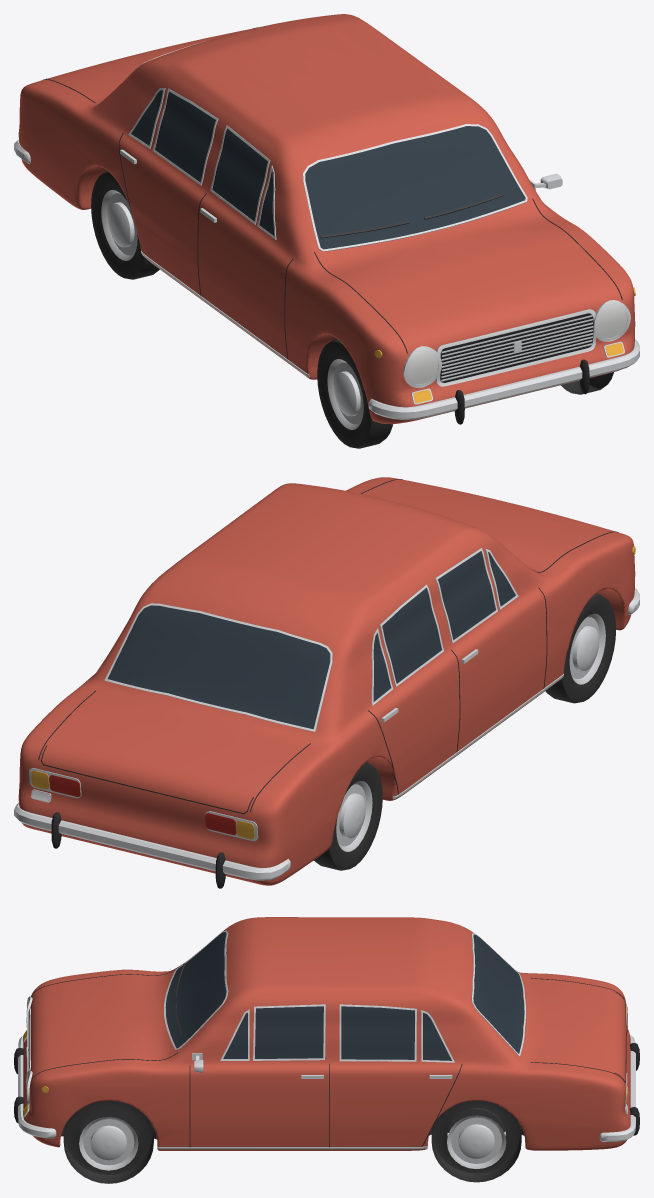
The model's file is vaz2101.glb.
3 renders of one model, top to bottom at view 1: azimuth 30°, elevation 25°; view 2: azimuth 150°, elevation 25°; view 3: azimuth 270°, elevation 25°, orthographic. The views are drawn at different scales.
Parts seen in each view (by area): view 1: paint, glass, trim, wheel_fr, wheel_rr, headlights; view 2: paint, glass, trim, wheel_fr, wheel_rr, taillights; view 3: paint, glass, trim, wheel_fl, wheel_rl.
Boxes of the visible parts, x1=… form: paint: x1=18, y1=14, x2=635, y2=424; glass: x1=131, y1=90, x2=525, y2=249; trim: x1=14, y1=27, x2=639, y2=424; wheel_fr: x1=317, y1=339, x2=392, y2=448; wheel_rr: x1=91, y1=170, x2=159, y2=279; headlights: x1=408, y1=305, x2=627, y2=384; paint: x1=18, y1=477, x2=635, y2=885; glass: x1=107, y1=551, x2=515, y2=729; trim: x1=14, y1=479, x2=639, y2=888; wheel_fr: x1=545, y1=593, x2=615, y2=703; wheel_rr: x1=314, y1=761, x2=382, y2=870; taillights: x1=49, y1=775, x2=236, y2=834; paint: x1=23, y1=917, x2=630, y2=1150; glass: x1=165, y1=932, x2=524, y2=1060; trim: x1=14, y1=930, x2=639, y2=1149; wheel_fl: x1=63, y1=1100, x2=153, y2=1183; wheel_rl: x1=431, y1=1100, x2=521, y2=1182.
Bounding box in the file's own units: 1.73 × 1.38 × 4.13.
